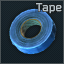Insulating tape: (0, 0, 64, 64)
